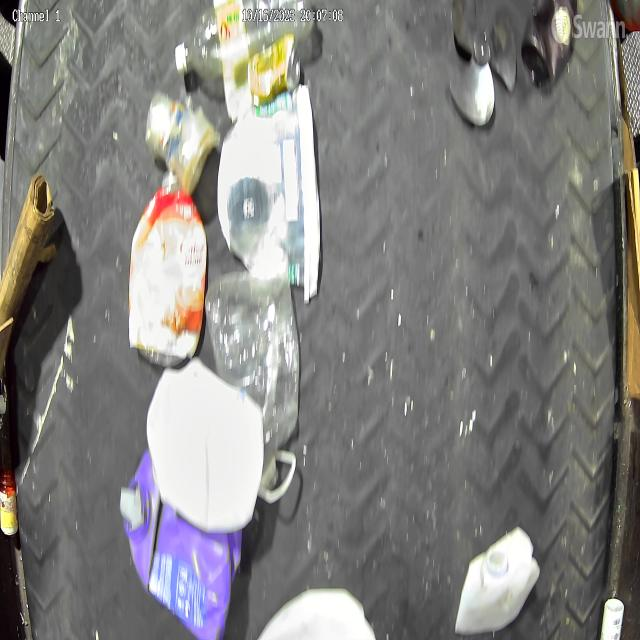can: (246, 34, 302, 106)
milk_jug: (146, 358, 266, 534), (454, 527, 540, 634), (256, 586, 375, 640)
non_white_jug: (119, 449, 243, 640)
plastic_bottle: (175, 0, 314, 79)
